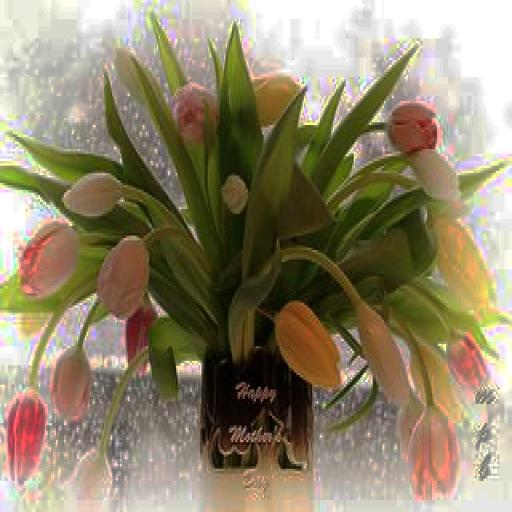tulip: (274, 300, 342, 387), (408, 406, 458, 505), (14, 224, 82, 296), (99, 231, 154, 312), (8, 392, 46, 485), (52, 344, 94, 423), (171, 82, 218, 144), (61, 173, 126, 216), (448, 329, 488, 397), (389, 101, 438, 156)
